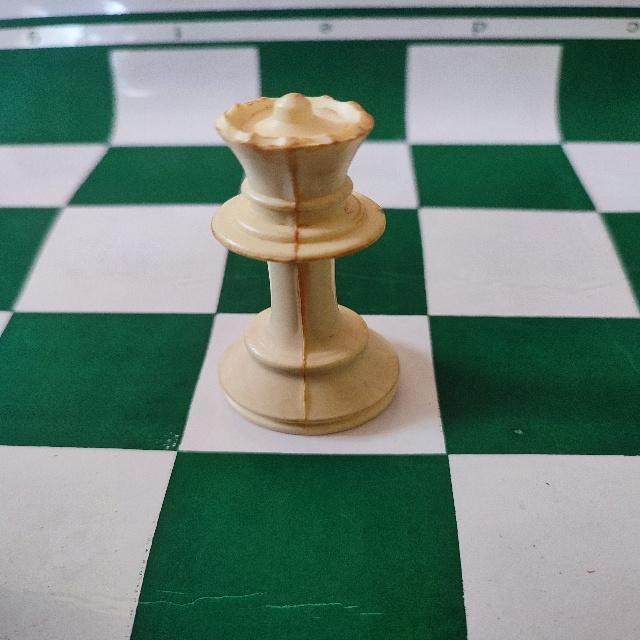Queen: (208, 80, 406, 443)
